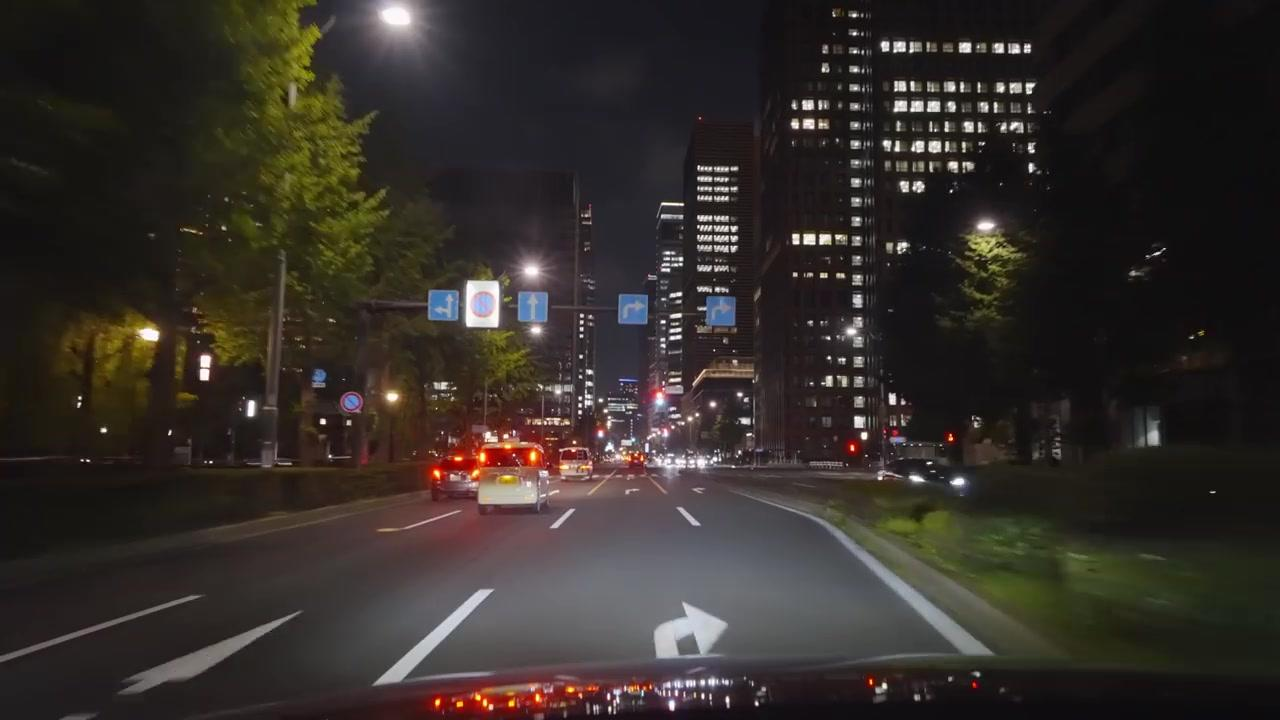car: (476, 439, 553, 516), (881, 457, 968, 496), (430, 449, 479, 499), (558, 446, 593, 479), (624, 453, 647, 471)
traffic light: (340, 391, 362, 413), (846, 439, 861, 457), (944, 430, 956, 446)
tv: (703, 294, 738, 332)
